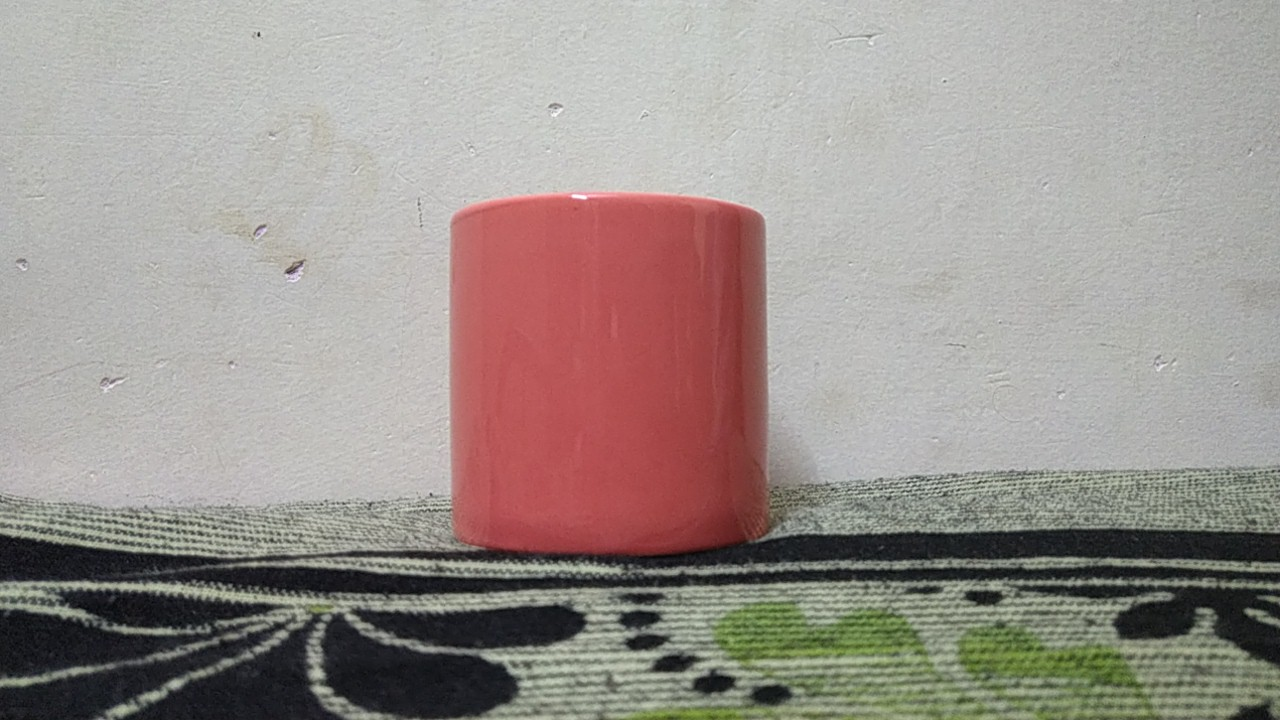cup: (431, 184, 785, 589)
